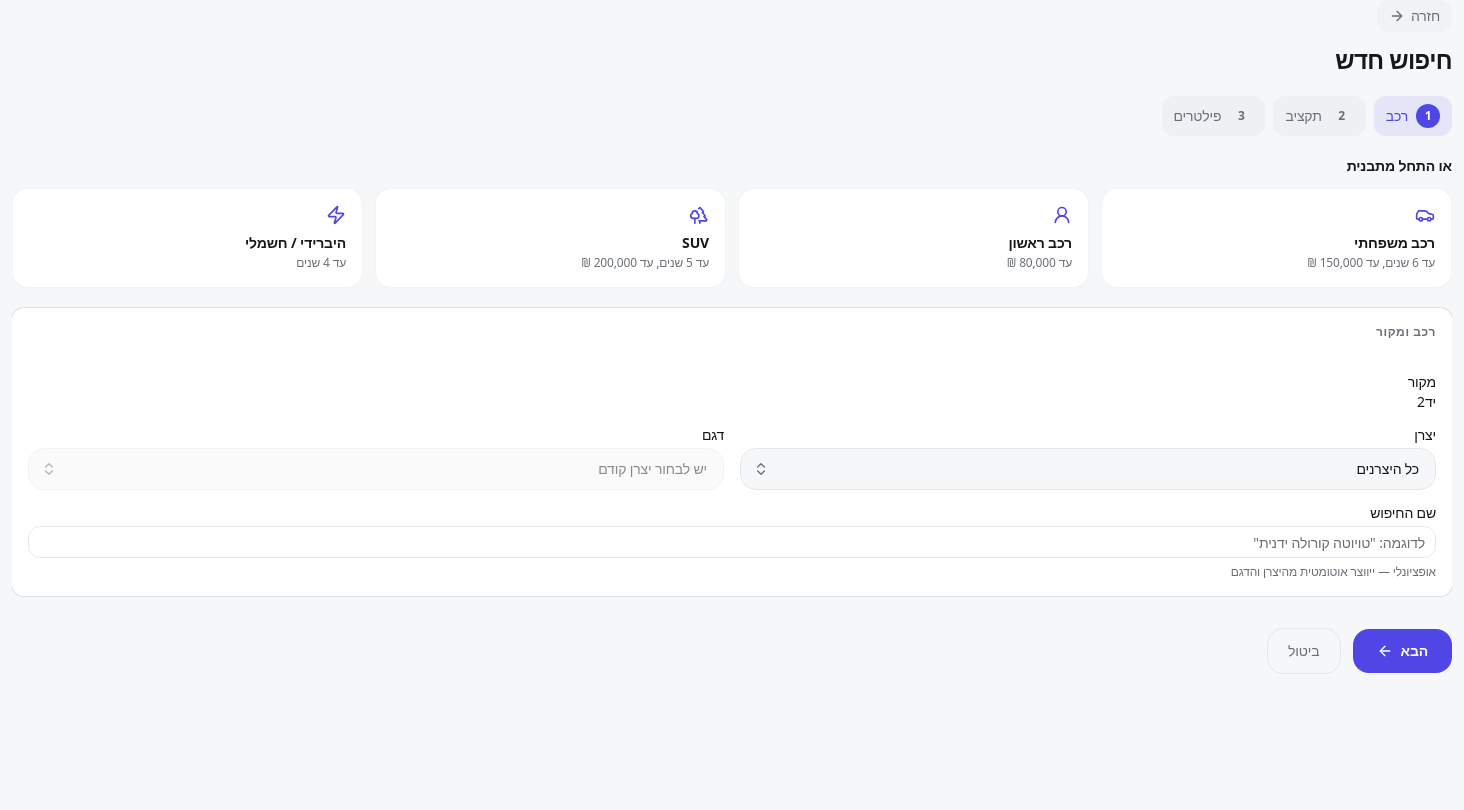
NewSearchPage presets › fills yearMin when 'SUV' preset is clicked
Click the button "SUV עד 5 שנים, עד 200,000 ₪" at (615, 262), box [375,188,726,288]
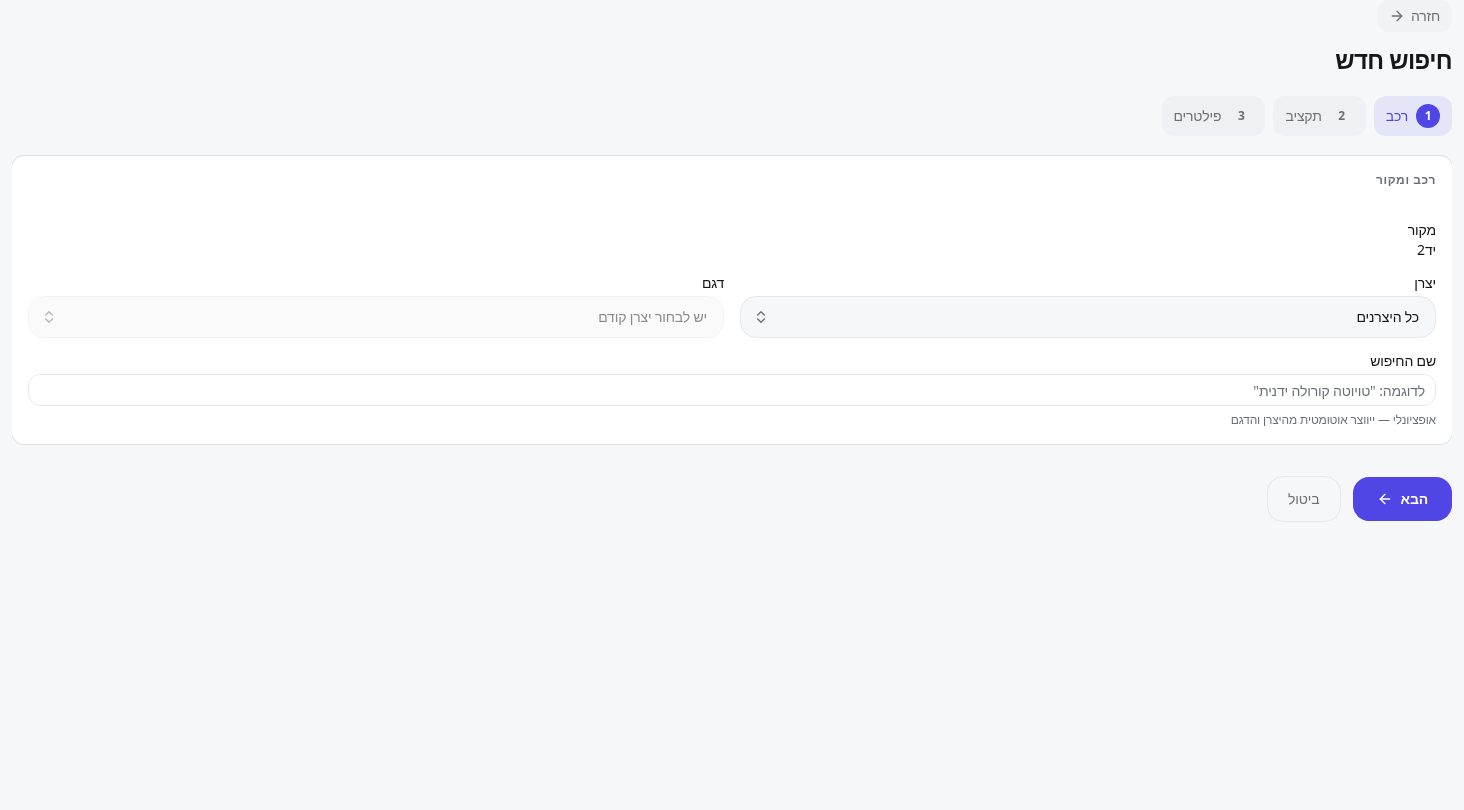
Click the button "הבא" at (1402, 499), box [1352,477,1452,521]
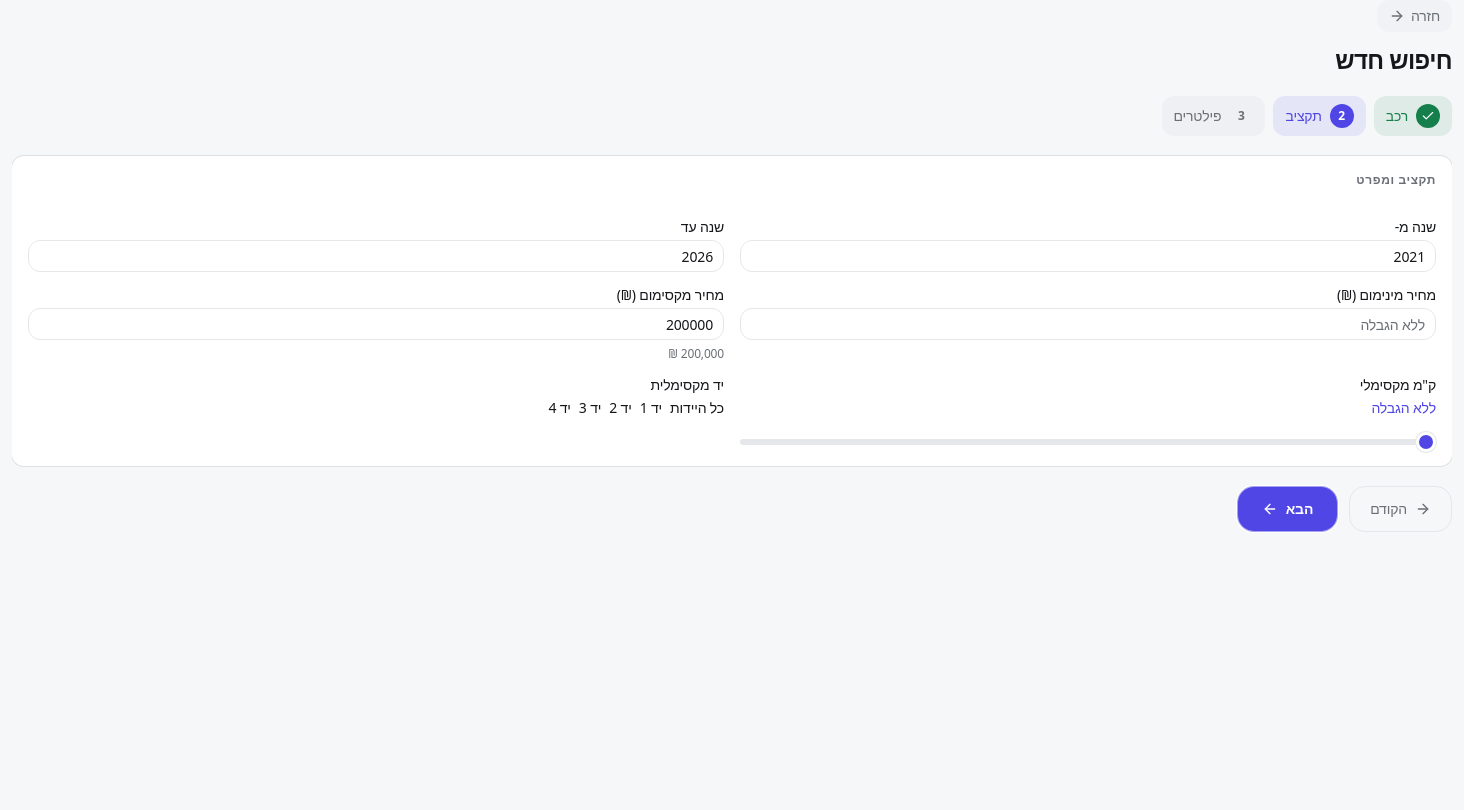
expect the number field labelled "שנה מ-" holds "2021": met, box [740,240,1436,272]
